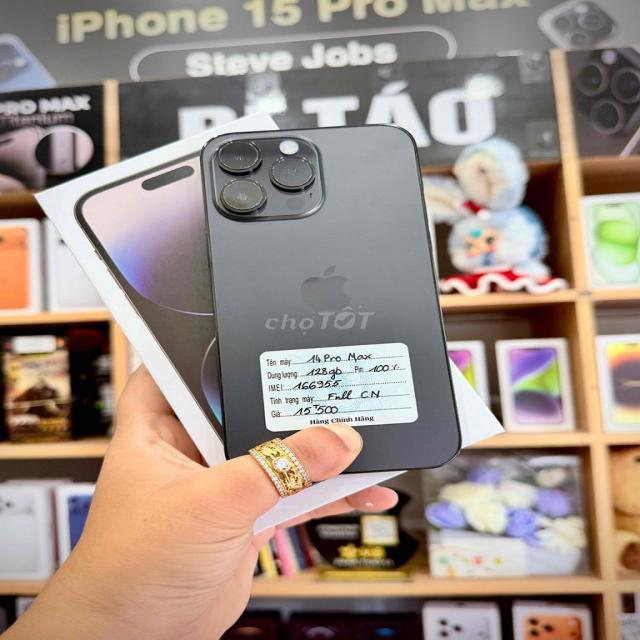gen_14: (193, 122, 461, 479)
